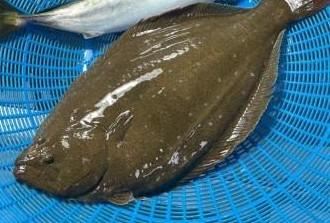fish: (12, 0, 329, 207)
